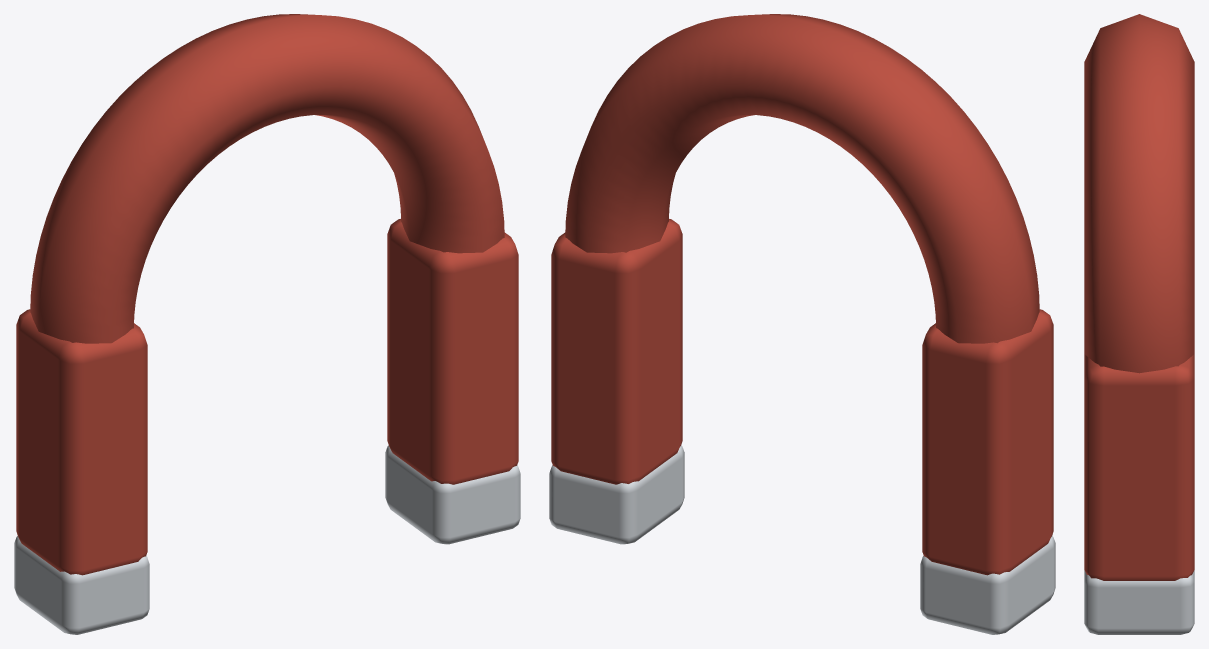
Rendered from wp-aimant-en-fer-a-cheval.glb.
3 views of the same model, side by side, from view 1: azimuth 30°, elevation 25°; view 2: azimuth 150°, elevation 25°; view 3: azimuth 270°, elevation 25° (orthographic). The views are drawn at different scales.
Visible parts, largest first — view 1: wp-aimant-en-fer-a-cheval; view 2: wp-aimant-en-fer-a-cheval; view 3: wp-aimant-en-fer-a-cheval.
Boxes of the visible parts, box(x1,y1,x2,y2) form: wp-aimant-en-fer-a-cheval: box(14, 14, 520, 634); wp-aimant-en-fer-a-cheval: box(549, 14, 1055, 634); wp-aimant-en-fer-a-cheval: box(1084, 14, 1194, 634).
Size of the model in its own units: 0.22 by 0.25 by 0.05.
